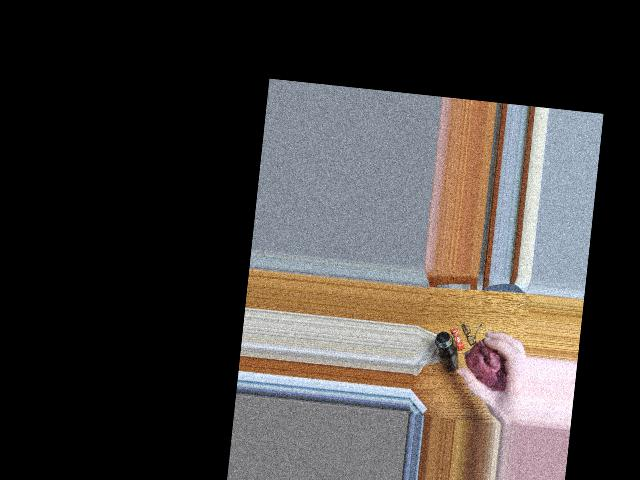onion: (472, 344, 508, 392)
